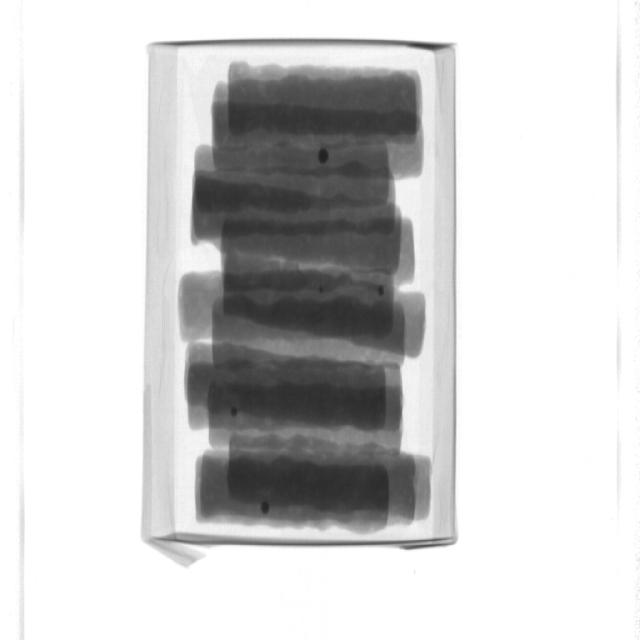ym: (319, 148, 330, 164), (263, 502, 272, 514), (233, 409, 241, 418), (380, 287, 386, 295), (321, 285, 325, 295)
